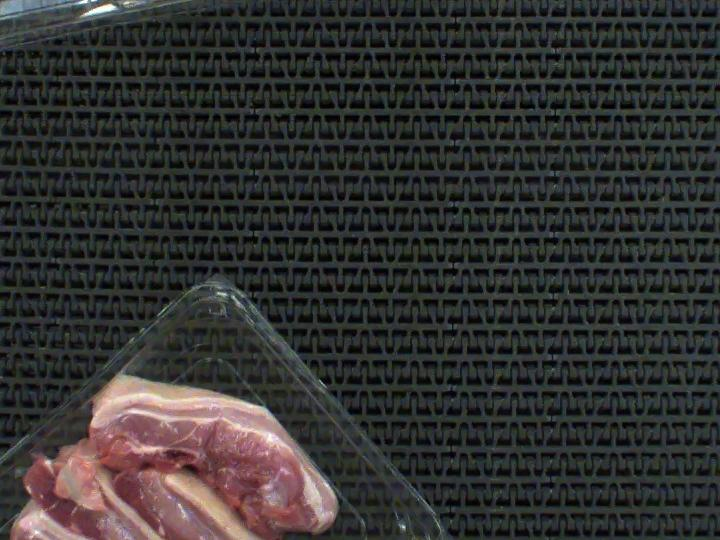packaging-error: (42, 370, 173, 440)
